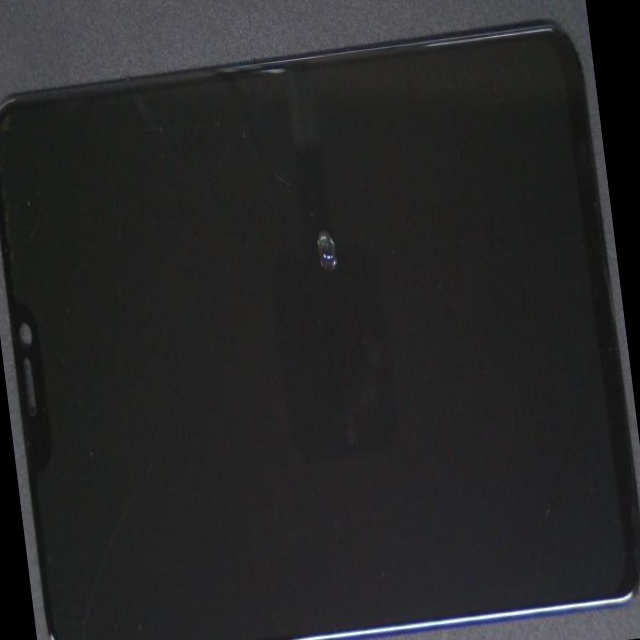oil: (139, 37, 491, 373)
